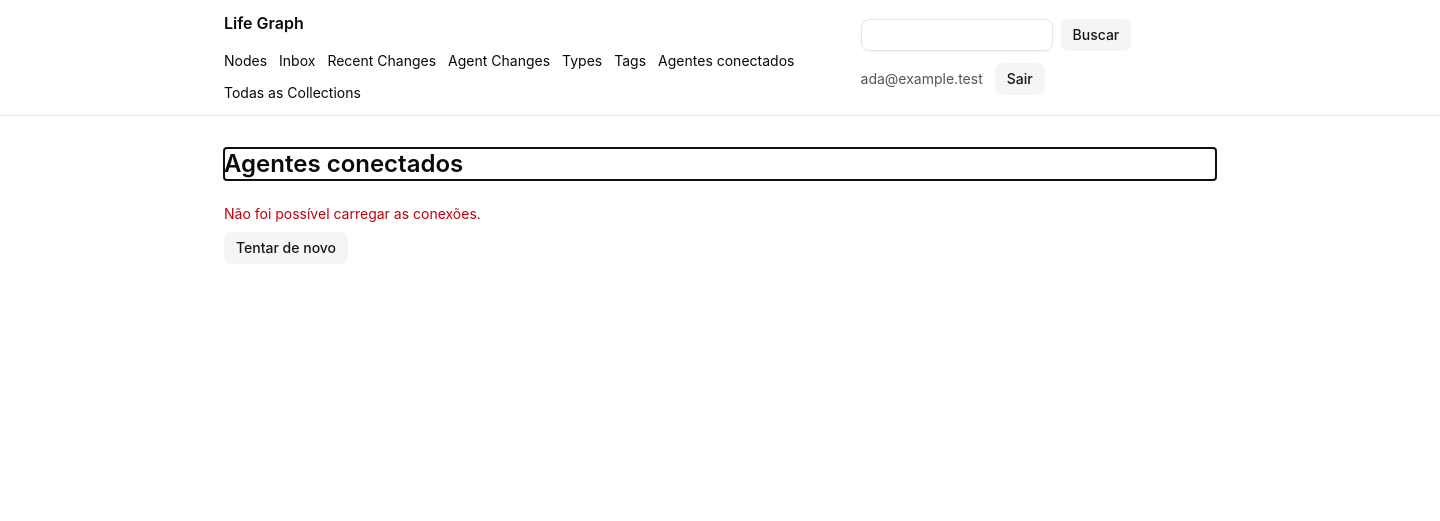
Test: connected agents › offers to try again when the list fails
The image size is (1440, 521).
Expected: the message reads "Não foi possível carregar as conexões.", [224,205,481,222]
Click the button "Tentar de novo".
click(286, 248)  # box [224,232,348,264]
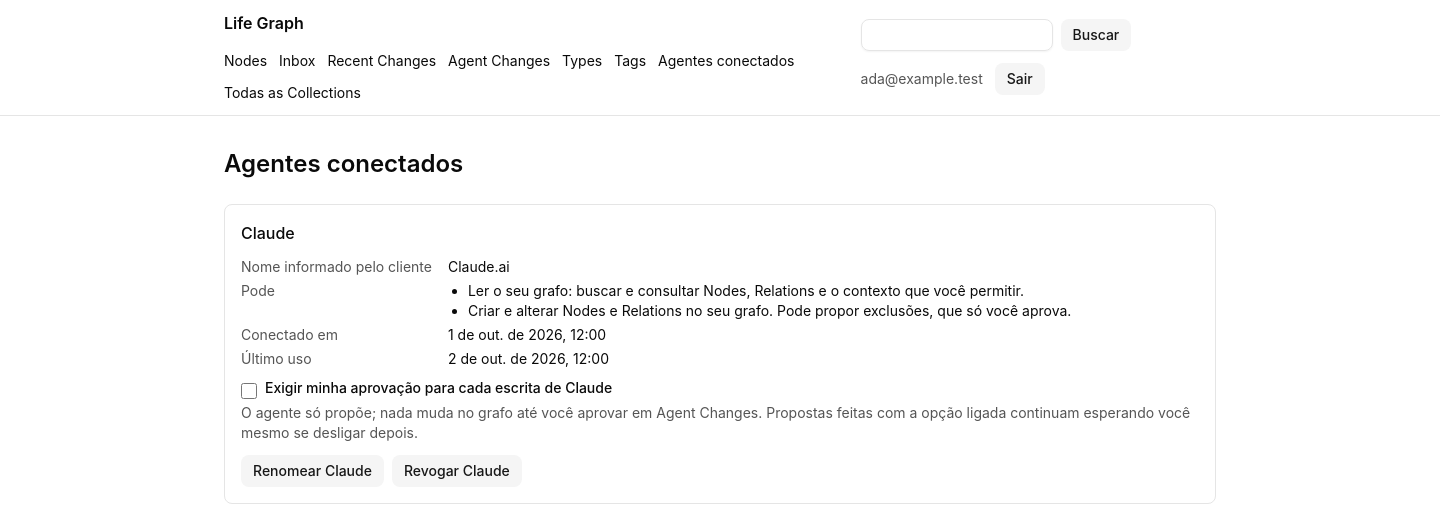
Result: the list item "Claude" is shown at [225,205,1215,503]
